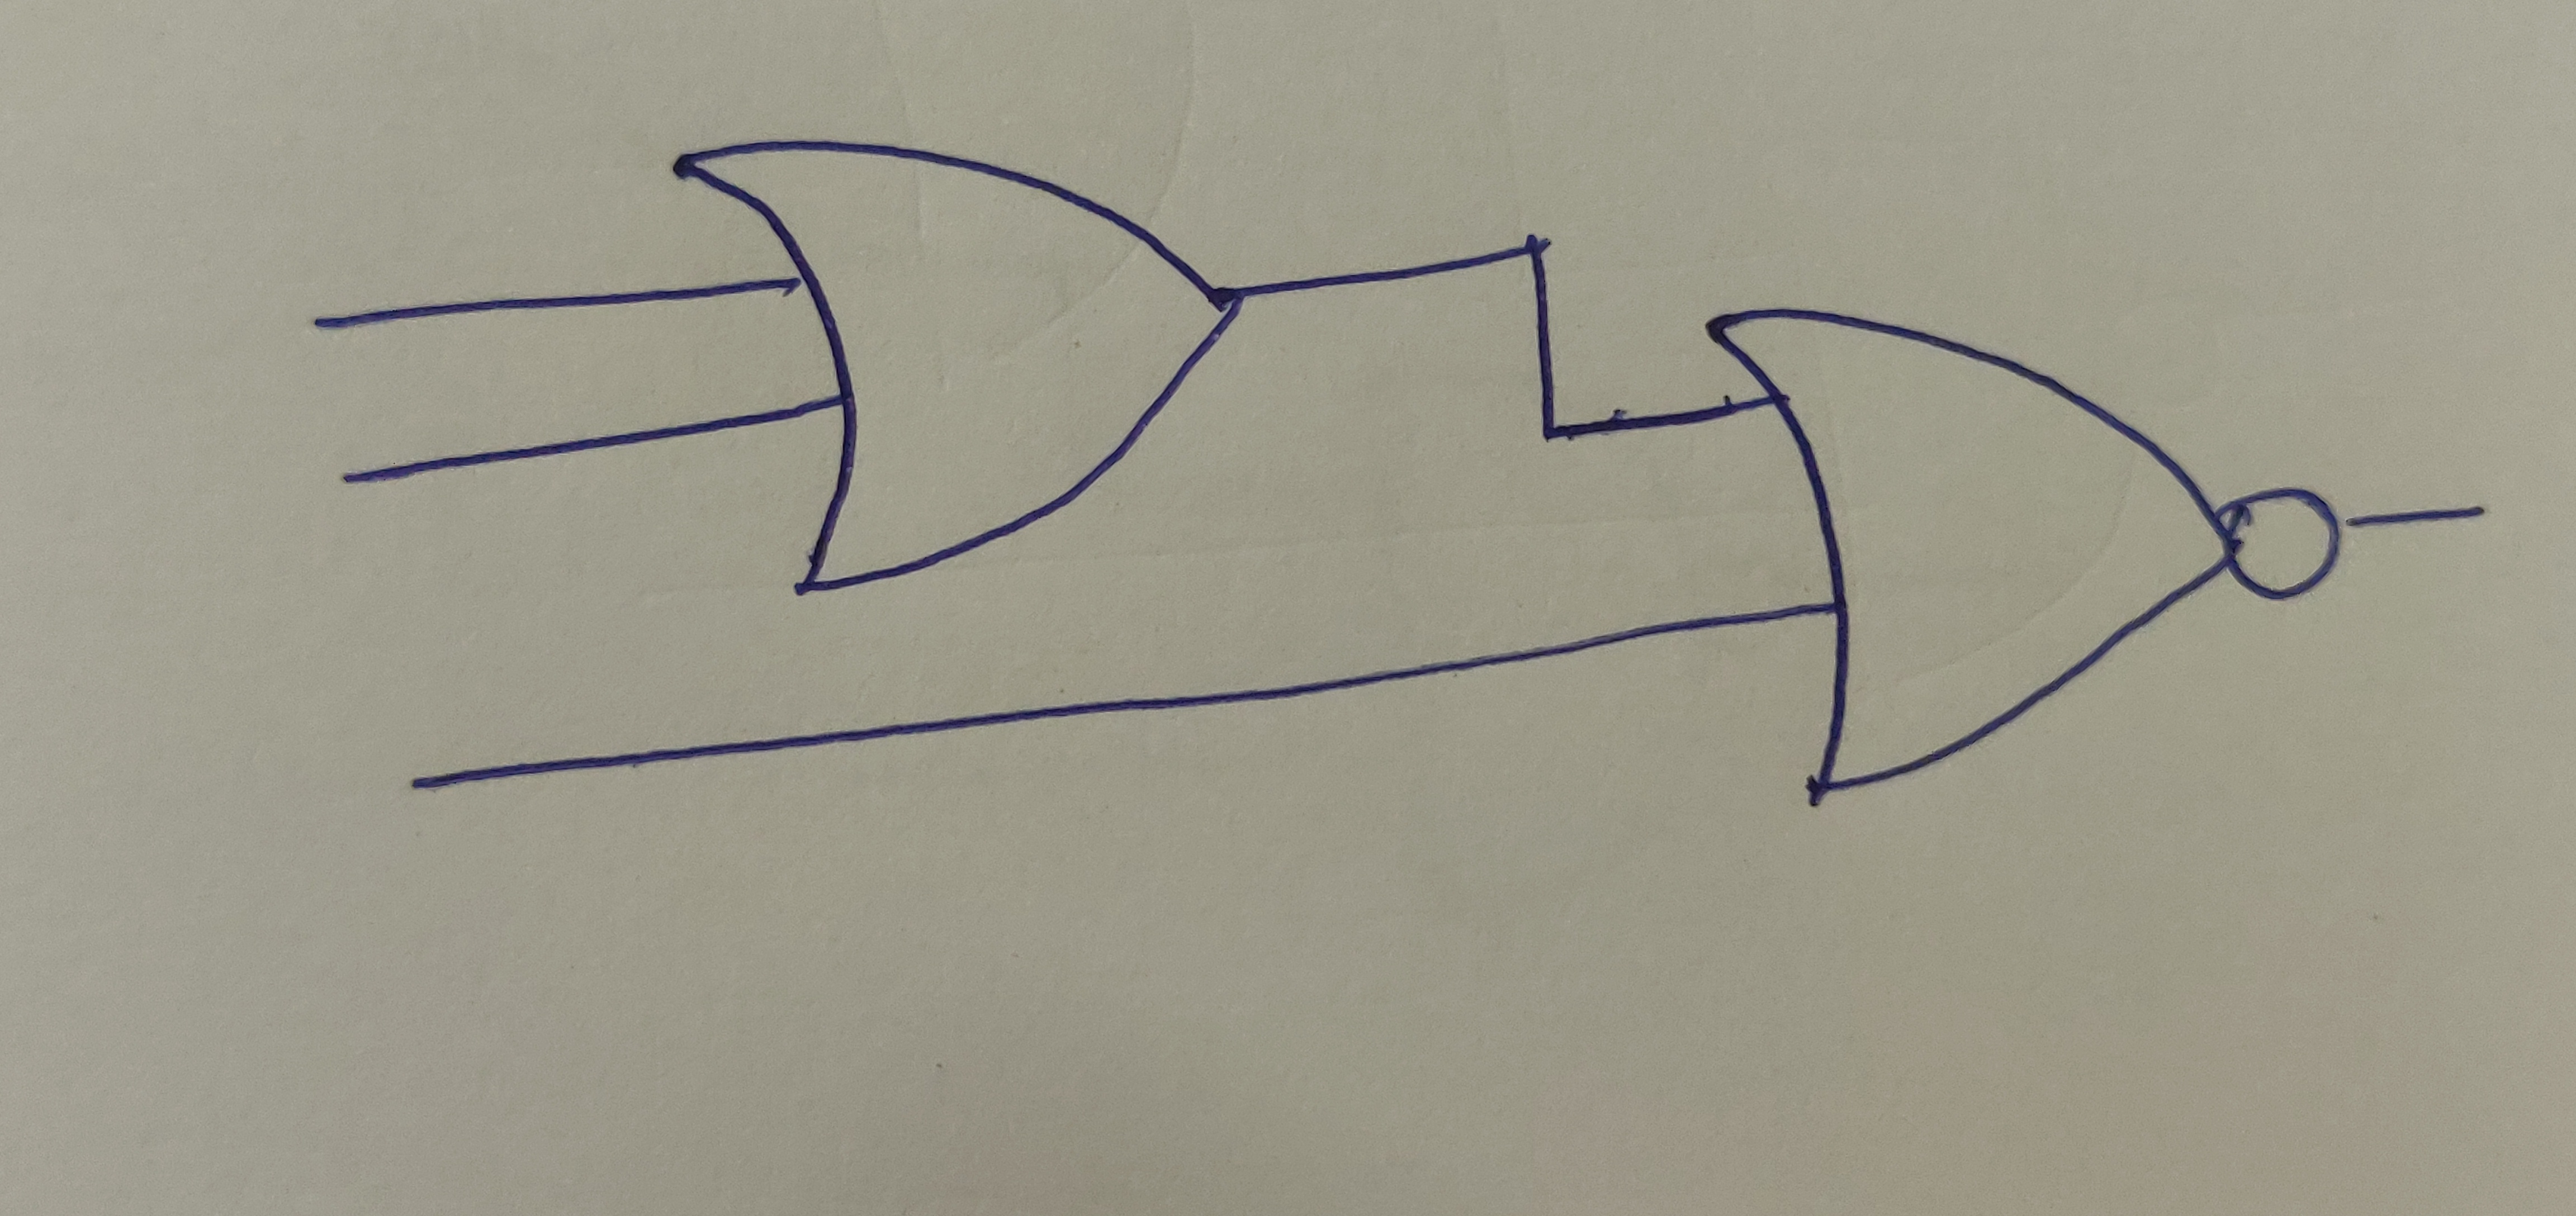not: (2231, 485, 2343, 603)
or: (674, 141, 1237, 593), (1712, 317, 2242, 792)
